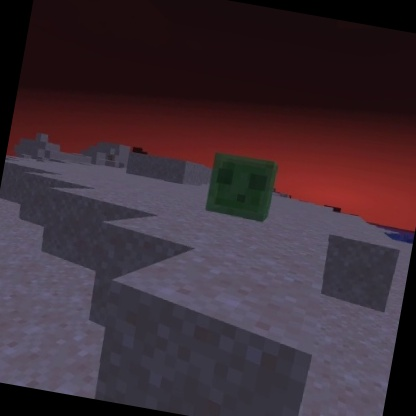slime: (199, 147, 283, 226)
